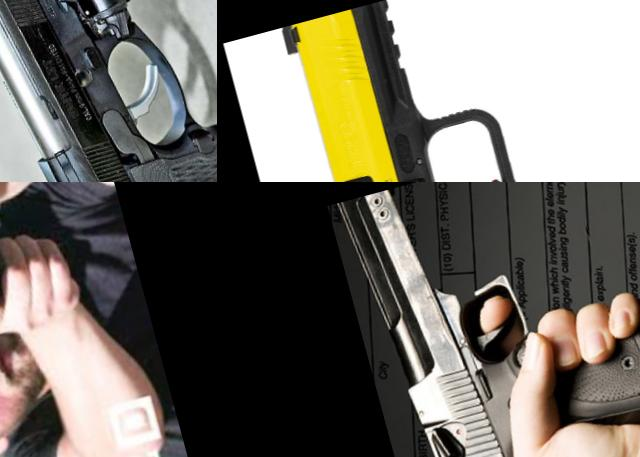handgun: (327, 182, 640, 457), (272, 0, 640, 182), (0, 0, 217, 182), (0, 213, 60, 329)
